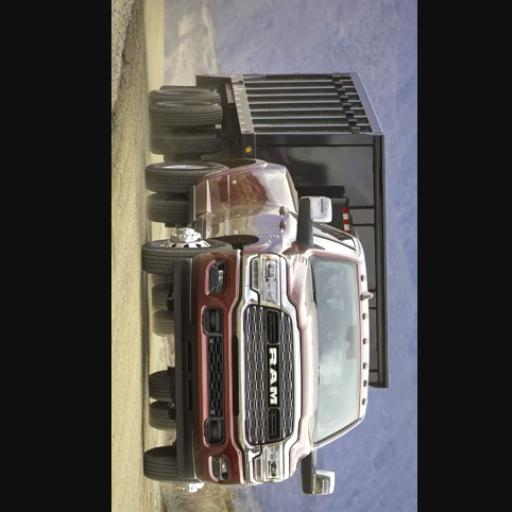truck: (138, 157, 372, 501)
